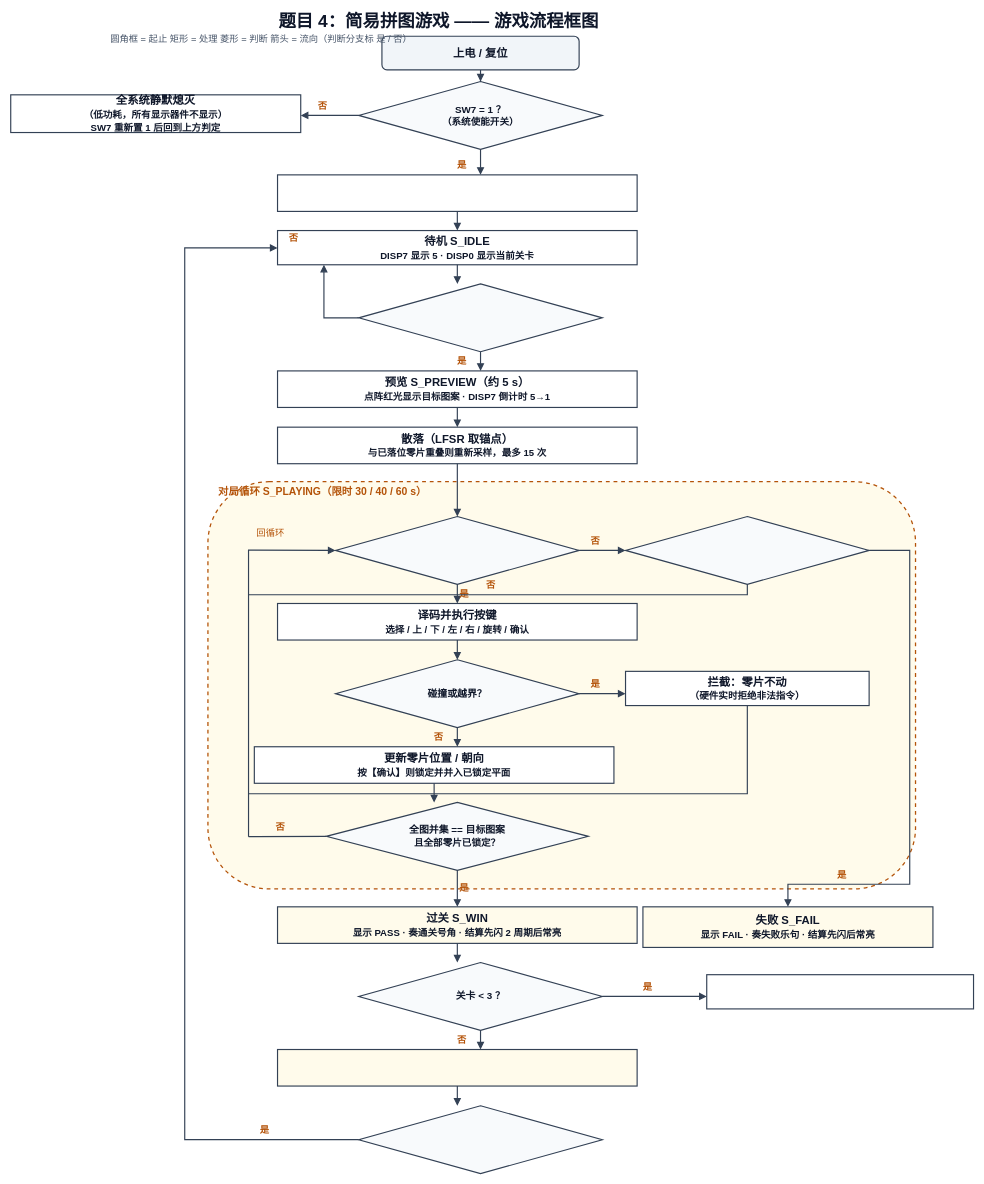
The diagram is 984 pixels wide and 1184 high, and some of its shapes have lost their labels. The shapes that lost their labels are listed below. From the top down, each one's centre as x and y in pixels, then its label:
At pixel 457 193: "自检 S_SELF_TEST（约 2 s） 点阵 64 点全亮黄闪 2 Hz · 数码管 88888888 · POST 短鸣".
At pixel 480 317: "按【开始】？".
At pixel 457 550: "有按键？".
At pixel 747 550: "剩余 ≤ 1 s ？".
At pixel 840 991: "关卡 +1 → 回到待机".
At pixel 457 1067: "通关结算 显示胜利图案 · 奏通关乐句（按【开始】重开）".
At pixel 480 1139: "按【开始】重开？".
